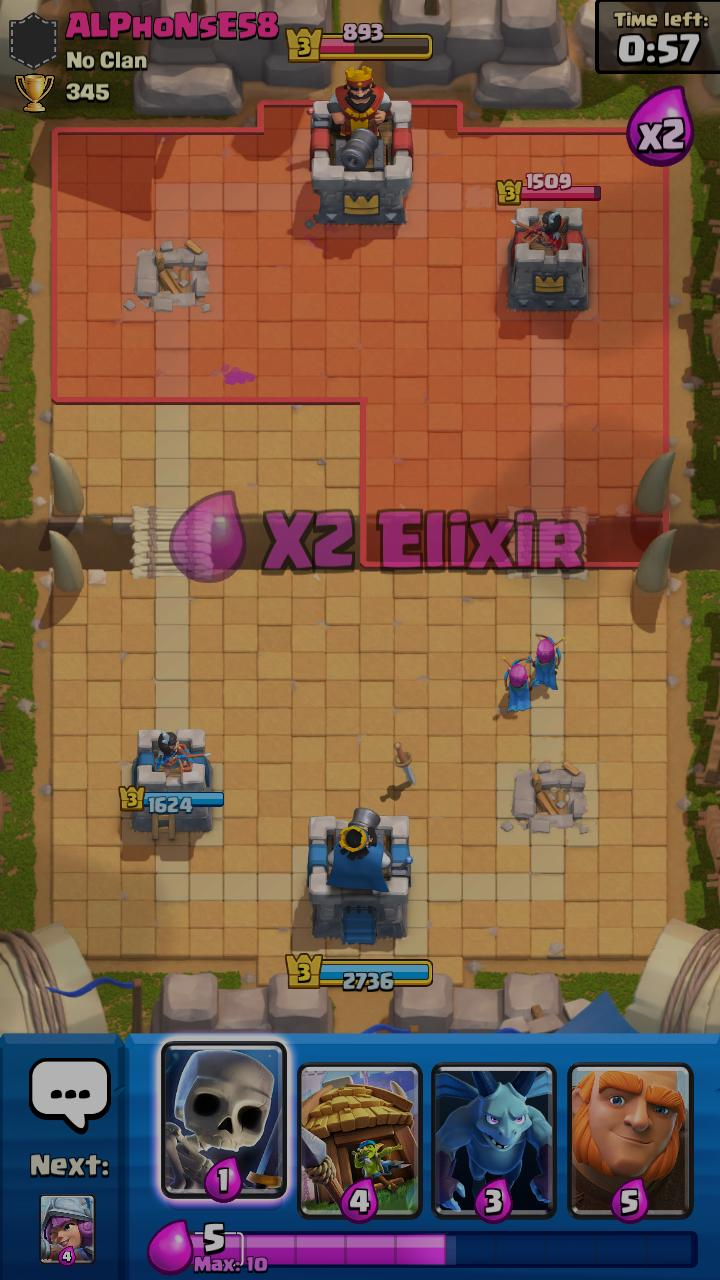ally: (502, 656, 540, 713), (527, 633, 565, 690)
